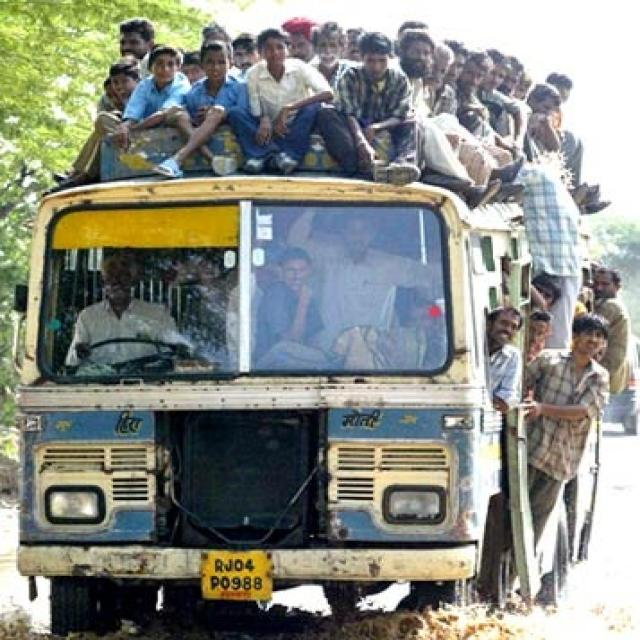bus: (19, 150, 531, 633)
